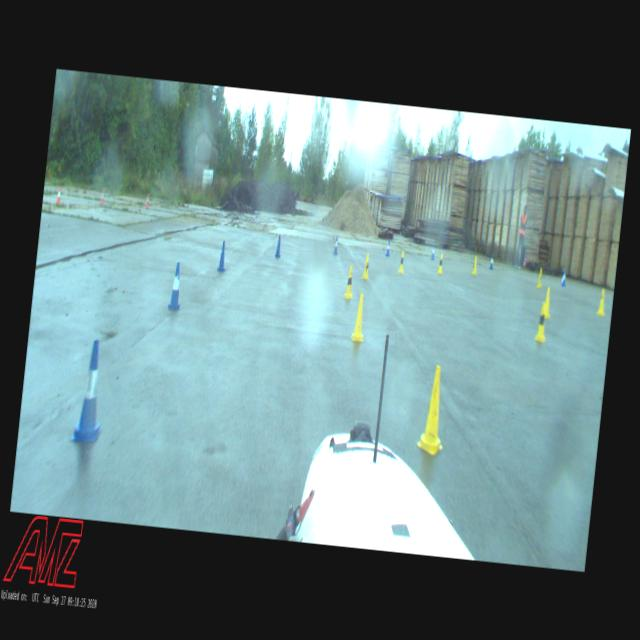blue_cone: (70, 339, 110, 442), (168, 262, 184, 309), (216, 240, 228, 272), (274, 235, 282, 257), (430, 243, 436, 259), (332, 236, 338, 252), (561, 270, 567, 286), (488, 253, 493, 269), (386, 238, 390, 256)
orange_cone: (56, 186, 61, 203), (100, 188, 104, 204), (145, 193, 149, 206)
yellow_cone: (415, 364, 451, 454), (350, 294, 367, 341), (534, 302, 548, 342), (342, 264, 354, 299), (596, 288, 606, 315), (362, 253, 371, 279), (544, 288, 552, 316), (397, 250, 405, 272), (437, 253, 444, 273), (536, 267, 542, 287), (472, 255, 478, 274)
